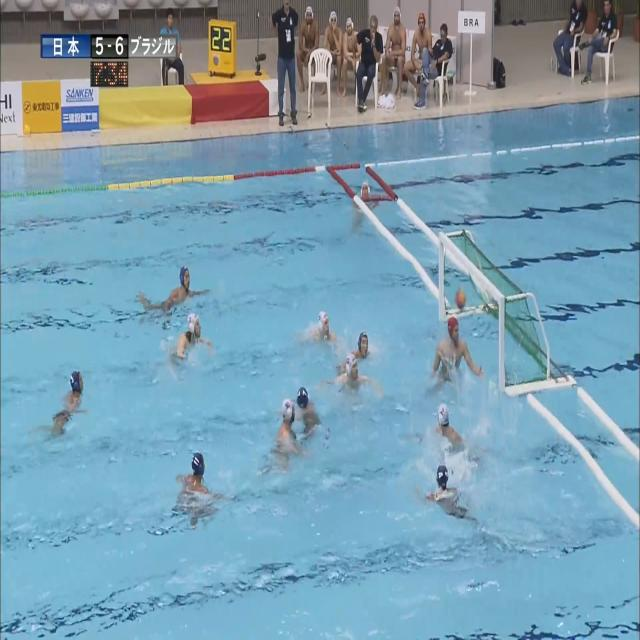ball: (455, 290, 465, 309)
